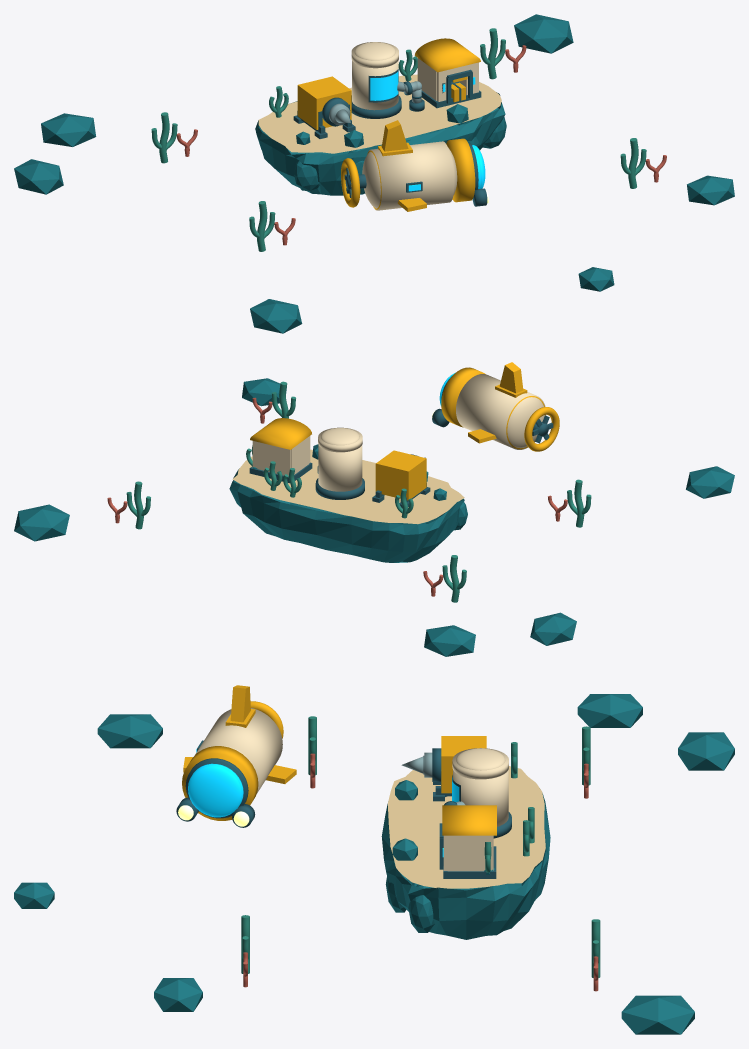
The picture shows the model from 3 angles, top to bottom: view 1: azimuth 30°, elevation 25°; view 2: azimuth 150°, elevation 25°; view 3: azimuth 270°, elevation 25°; orthographic projection. The views are drawn at different scales.
Visible parts, largest first — view 1: Sandy island top, Faceted rocky island, Submarine main hull, Background rock.002, Drill housing, Background rock.001, Curved golden roof, Background rock.004, Background rock, Nose rim, Refinery tank, Background rock.003 (+9 smaller); view 2: Faceted rocky island, Sandy island top, Submarine main hull, Drill housing, Refinery tank, Background rock.002, Background rock.001, Curved golden roof, Background rock.004, Background rock, Rounded stern, Storage back wall (+7 smaller); view 3: Sandy island top, Faceted rocky island, Submarine main hull, Background rock.002, Domed glass, Background rock.004, Background rock, Background rock.001, Curved golden roof, Refinery tank, Storage right wall, Nose rim (+8 smaller).
Part boxes in pixels (x1,y1,x2,y2): Sandy island top: (258, 74, 501, 153); Faceted rocky island: (255, 92, 505, 195); Submarine main hull: (368, 141, 454, 210); Background rock.002: (514, 14, 573, 53); Drill housing: (297, 76, 351, 129); Background rock.001: (41, 113, 96, 146); Curved golden roof: (414, 38, 480, 72); Background rock.004: (250, 299, 302, 333); Background rock: (14, 159, 63, 194); Nose rim: (446, 138, 475, 202); Refinery tank: (352, 60, 398, 110); Background rock.003: (687, 175, 734, 205); Faceted rocky island: (229, 468, 464, 562); Sandy island top: (232, 449, 464, 524); Submarine main hull: (456, 374, 546, 449); Drill housing: (375, 450, 426, 500); Refinery tank: (318, 445, 362, 491); Background rock.002: (14, 504, 69, 541); Background rock.001: (424, 625, 475, 656); Curved golden roof: (250, 418, 311, 449); Background rock.004: (686, 466, 734, 498); Background rock: (530, 612, 576, 645); Rounded stern: (507, 397, 545, 448); Storage back wall: (252, 441, 291, 476); Sandy island top: (387, 766, 545, 888); Faceted rocky island: (381, 793, 550, 939); Submarine main hull: (194, 708, 282, 793); Background rock.002: (621, 995, 694, 1034); Domed glass: (188, 765, 242, 817); Background rock.004: (97, 714, 162, 748); Background rock: (577, 694, 642, 727); Background rock.001: (678, 732, 734, 770); Curved golden roof: (442, 805, 496, 835); Refinery tank: (453, 770, 508, 826); Storage right wall: (447, 835, 491, 871); Nose rim: (182, 746, 258, 820).
Size of what is drawn, in the model's own units: 16.3 by 3.65 by 15.02.
